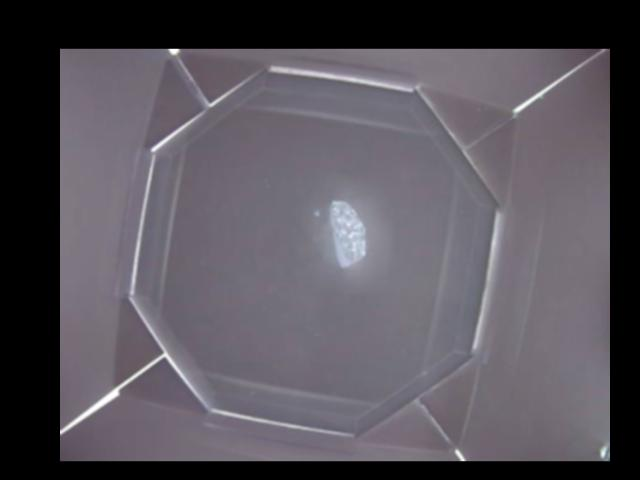China: (330, 199, 365, 264)
